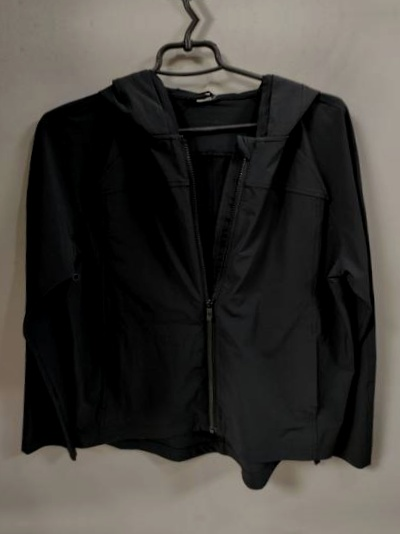Hoodie: (0, 49, 400, 503), (397, 35, 400, 489), (4, 533, 400, 534)
